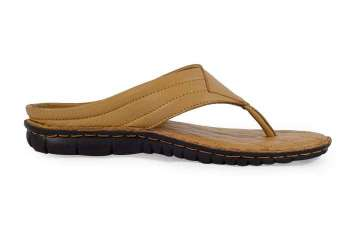Footwear: (20, 58, 334, 168)
